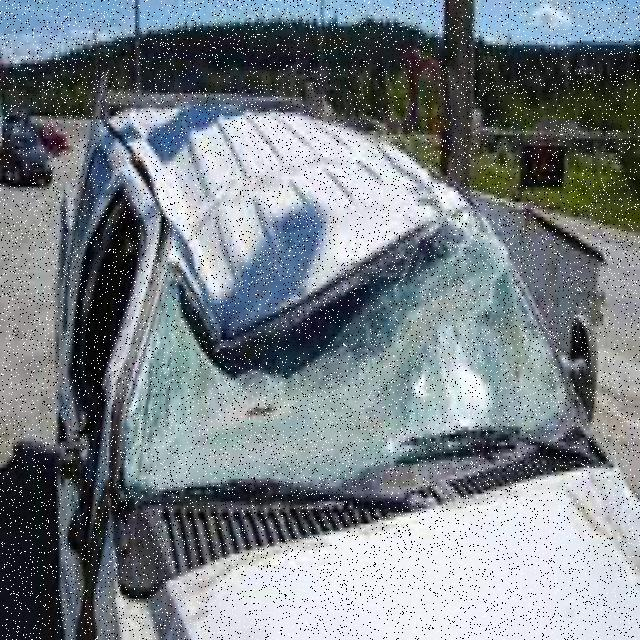Front-Windscreen-Damage: (120, 202, 556, 505)
roof-dent: (96, 53, 462, 326)
